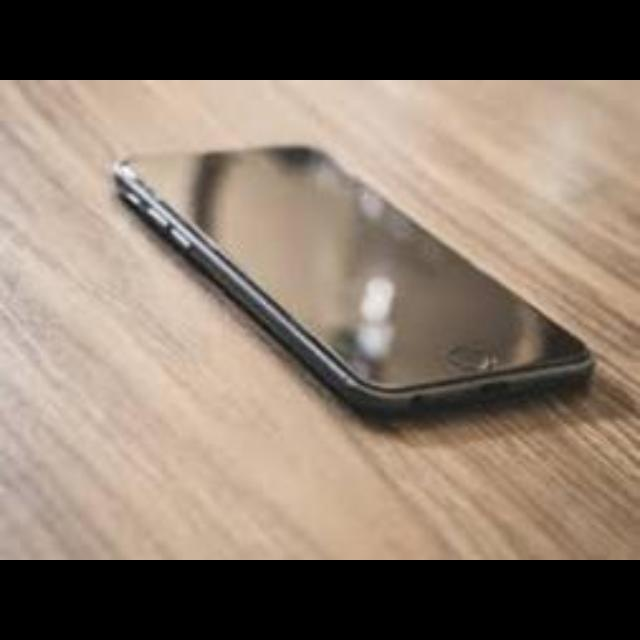phone: (87, 122, 605, 454)
